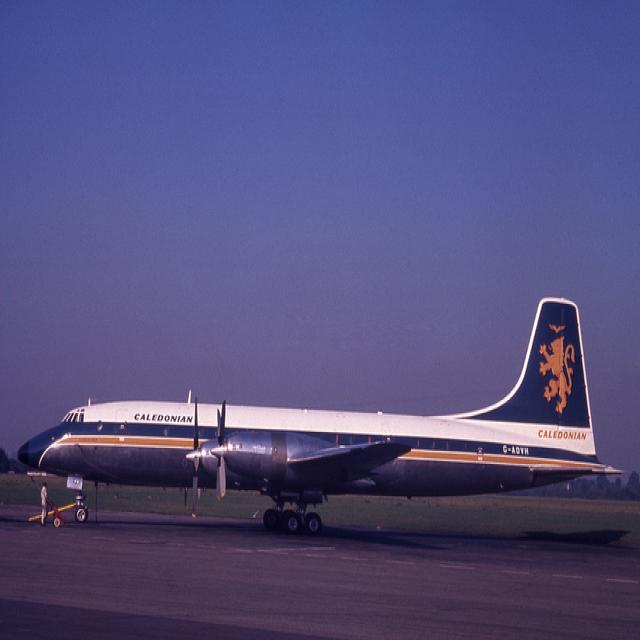airplane: (17, 294, 626, 537)
